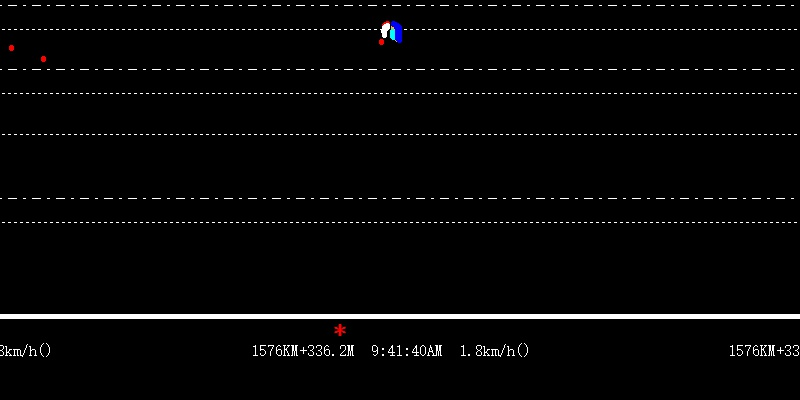face_2: (381, 19, 401, 41)
star: (331, 319, 349, 339)
